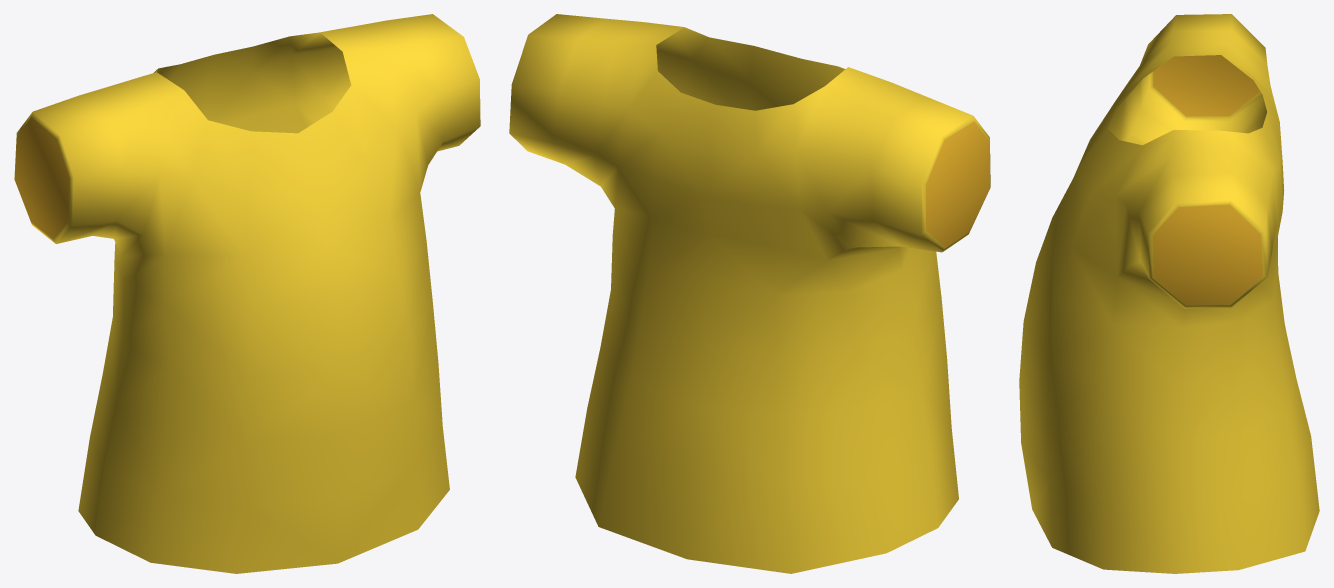
File: Outerwear_Yellow_009.glb
3 views of the same model, side by side, from view 1: azimuth 30°, elevation 25°; view 2: azimuth 150°, elevation 25°; view 3: azimuth 270°, elevation 25° (orthographic). The views are drawn at different scales.
Visible parts, largest first — view 1: Outerwear_Yellow_009; view 2: Outerwear_Yellow_009; view 3: Outerwear_Yellow_009.
Boxes of the visible parts, box(x1,y1,x2,y2) form: Outerwear_Yellow_009: box(14, 14, 480, 573); Outerwear_Yellow_009: box(509, 14, 990, 573); Outerwear_Yellow_009: box(1019, 14, 1319, 573).
Size of the model in its own units: 0.609 by 0.6218 by 0.4048.
1 material, 1 textured.
